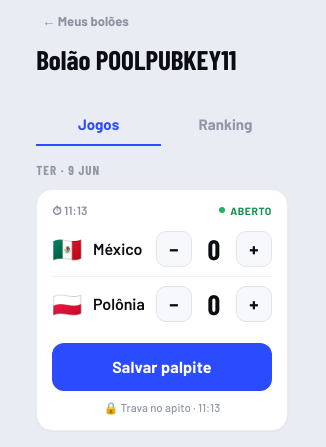
Scenario: PoolPage › ranking tab: fetches and lists standings, marks own row, shows provisional badge
What coordinates should you click on to do the following:
click the button "Ranking"
I would click on:
 (225, 124)
Its box is x1=163 y1=104 x2=288 y2=146.
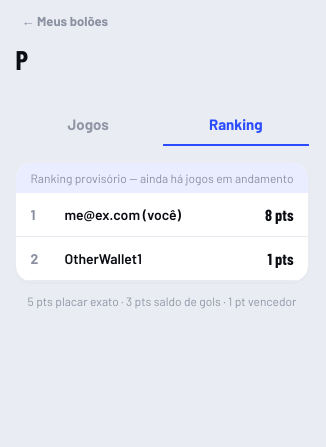
Check: the text "me@ex.com (você)" is shown, box x1=64 y1=206 x2=181 y2=222
Check: the text "Ranking provisório — ainda há jogos em andamento" is shown, box x1=16 y1=162 x2=308 y2=192
Check: the text "OtherWallet1" is shown, box x1=64 y1=250 x2=142 y2=266
